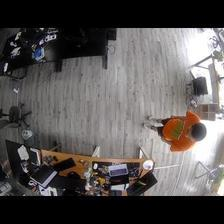normal: (142, 110, 206, 152)
